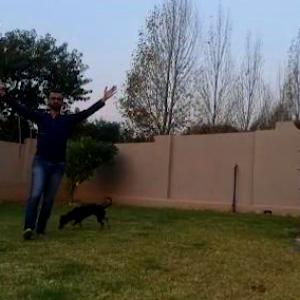takeoff: (2, 79, 124, 248)
